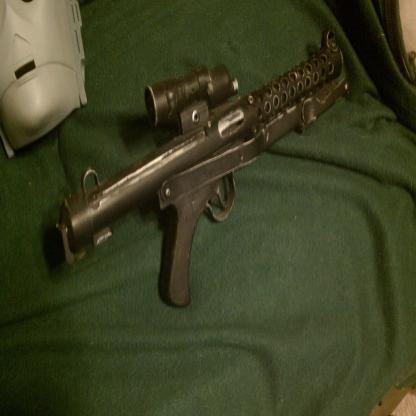Handgun: (55, 28, 350, 306)
